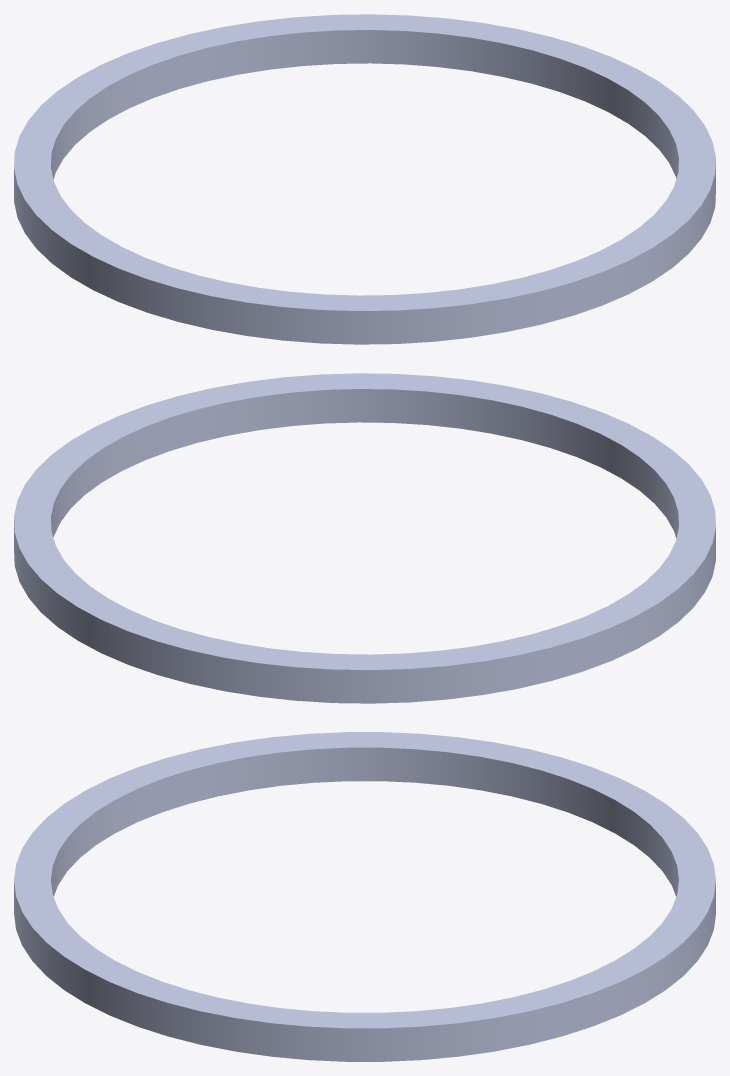
Rendered from MCPBearingFlange.obj.
The picture shows the model from 3 angles, top to bottom: view 1: azimuth 30°, elevation 25°; view 2: azimuth 150°, elevation 25°; view 3: azimuth 270°, elevation 25°; orthographic projection.
Visible parts, largest first — view 1: mesh0, mesh1, mesh3; view 2: mesh0, mesh1, mesh3; view 3: mesh0, mesh1, mesh3.
Part boxes in pixels (<box>): mesh0: <box>14,14,715,310</box>; mesh1: <box>14,161,715,344</box>; mesh3: <box>51,30,678,178</box>; mesh0: <box>14,373,715,669</box>; mesh1: <box>14,520,715,703</box>; mesh3: <box>51,389,678,537</box>; mesh0: <box>14,732,715,1028</box>; mesh1: <box>14,882,715,1061</box>; mesh3: <box>51,747,678,896</box>.
Bounding box in the file's own units: 0.019 × 0.001 × 0.019.
